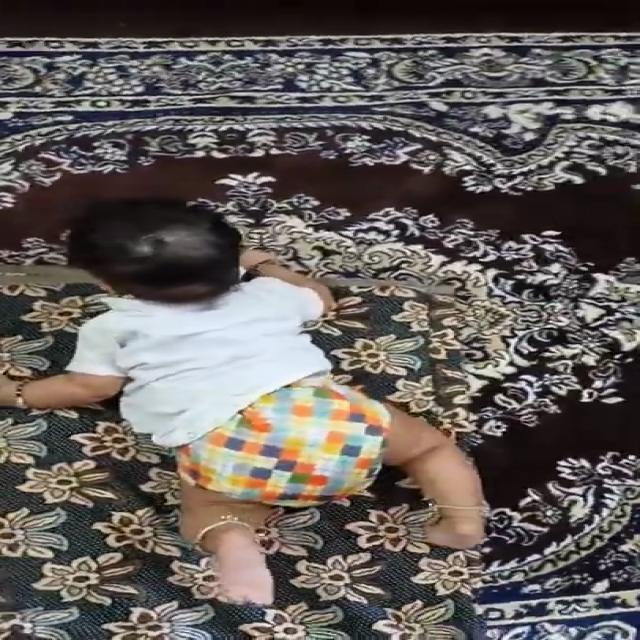baby: (0, 196, 501, 604)
